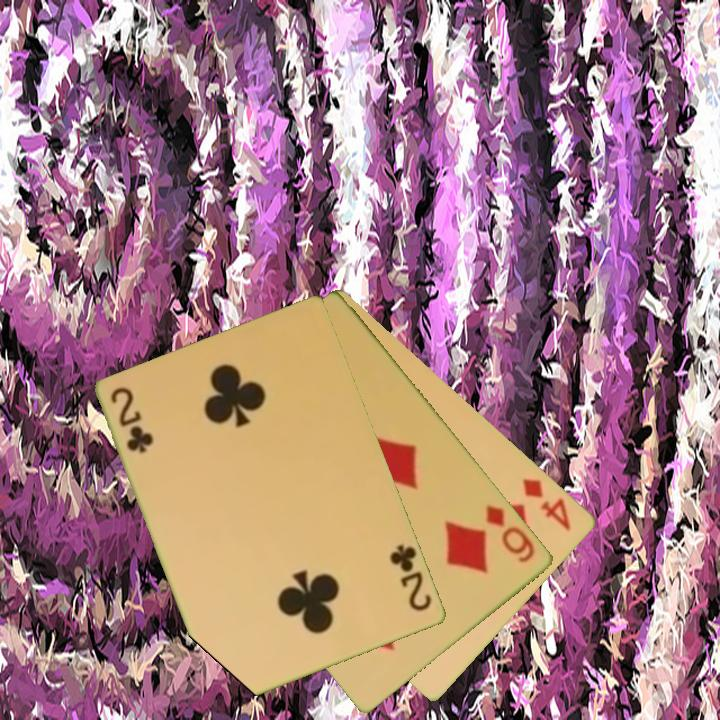2c: (386, 541, 435, 615), (107, 383, 155, 456)
4d: (519, 474, 575, 534)
6d: (483, 501, 539, 566)
